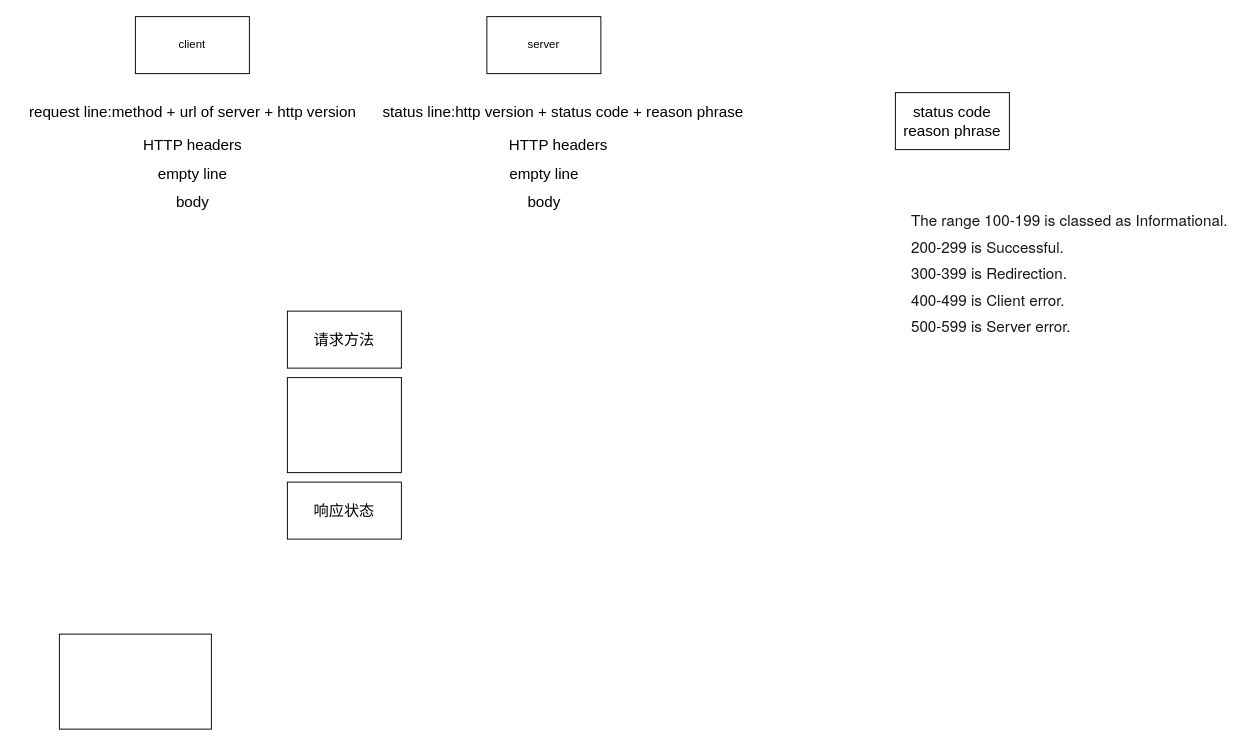
Image size: 1253x746. Some labels were removed from this diagram. The centre of each missing label's shape, as x and y in pixels:
头部字段 通用头部 请求头部 响应头部: point (343, 425)
通信内容对通信过程的行为控制？ 简单传送一个请求或者传输文件: point (134, 681)
